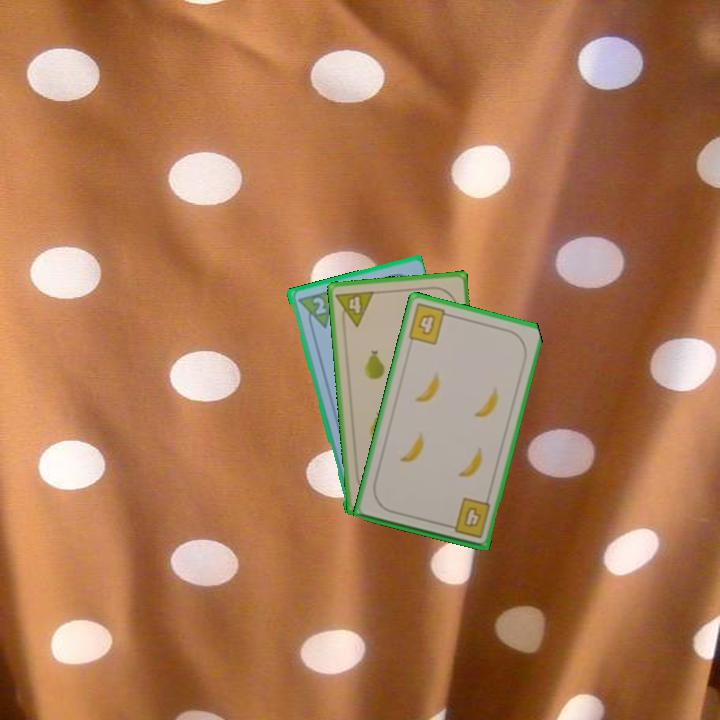2p: (309, 293, 329, 317)
4b: (404, 300, 455, 348), (443, 494, 493, 541)
4p: (332, 287, 377, 330)
